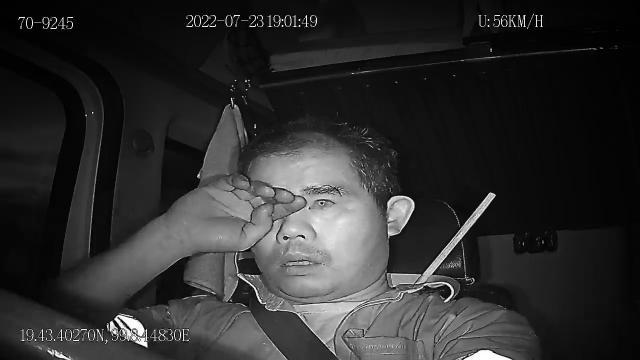SafeDriving: (306, 191, 341, 212)
Seatbelt: (248, 290, 342, 360)
